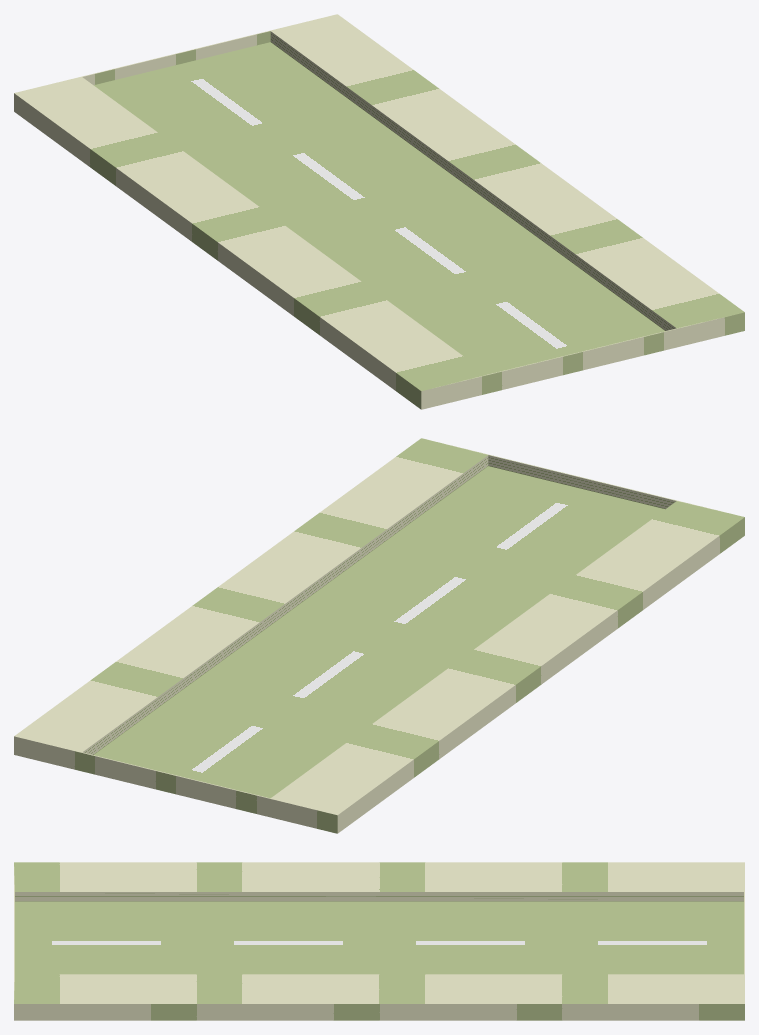
Rendered from Street.fbx.
3 views of the same model, one above another, from view 1: azimuth 30°, elevation 25°; view 2: azimuth 150°, elevation 25°; view 3: azimuth 270°, elevation 25° (orthographic). The views are drawn at different scales.
Visible parts, largest first — view 1: Sidewalk, Street; view 2: Sidewalk, Street; view 3: Sidewalk, Street.
Part boxes in pixels (x1,y1,x2,y2): Sidewalk: (14, 14, 744, 409); Street: (94, 42, 664, 374); Sidewalk: (14, 438, 744, 833); Street: (94, 466, 664, 798); Sidewalk: (14, 862, 744, 1020); Street: (15, 901, 743, 974).
Bounding box in the file's own units: 769 × 42.1 × 1677.
